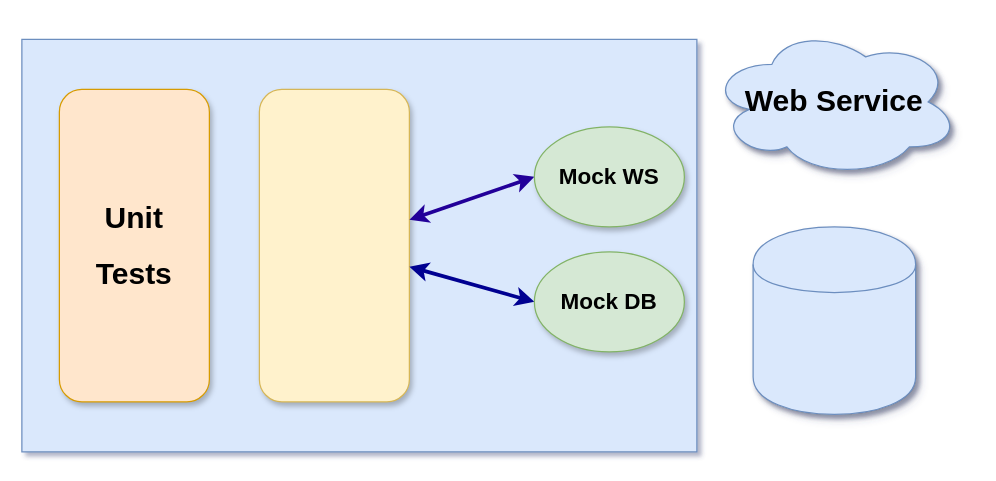
This 996x481 diagram has some shape labels left out. The centre of each missing label's shape, as x and y in pixels:
"Database" belongs at point 835,322.
"Project Codes (AUT)" belongs at point 335,247.
